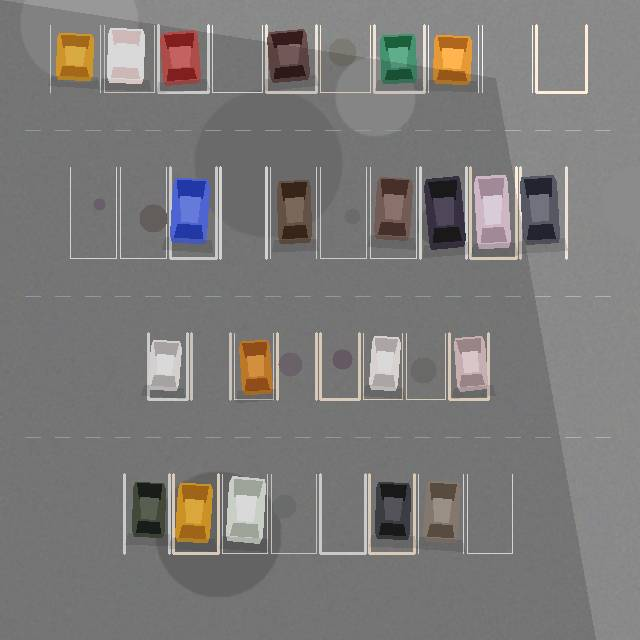space-empty: (70, 167, 116, 258), (120, 167, 166, 258), (220, 167, 266, 258), (320, 167, 366, 258), (271, 474, 316, 553), (320, 474, 365, 553), (467, 474, 512, 553), (212, 25, 262, 92), (320, 25, 370, 92), (482, 25, 532, 92), (536, 25, 586, 92), (191, 333, 230, 399), (277, 333, 316, 399), (320, 333, 359, 399), (406, 333, 445, 399)
space-occupied: (170, 167, 216, 258), (270, 167, 316, 258), (370, 167, 416, 258), (420, 167, 466, 258), (470, 167, 516, 258), (520, 167, 566, 258), (124, 474, 169, 553), (173, 474, 218, 553), (222, 474, 267, 553), (369, 474, 414, 553), (418, 474, 463, 553), (50, 25, 100, 92), (104, 25, 154, 92), (158, 25, 208, 92), (266, 25, 316, 92), (374, 25, 424, 92), (428, 25, 478, 92), (148, 333, 187, 399), (234, 333, 273, 399), (363, 333, 402, 399), (449, 333, 488, 399)
